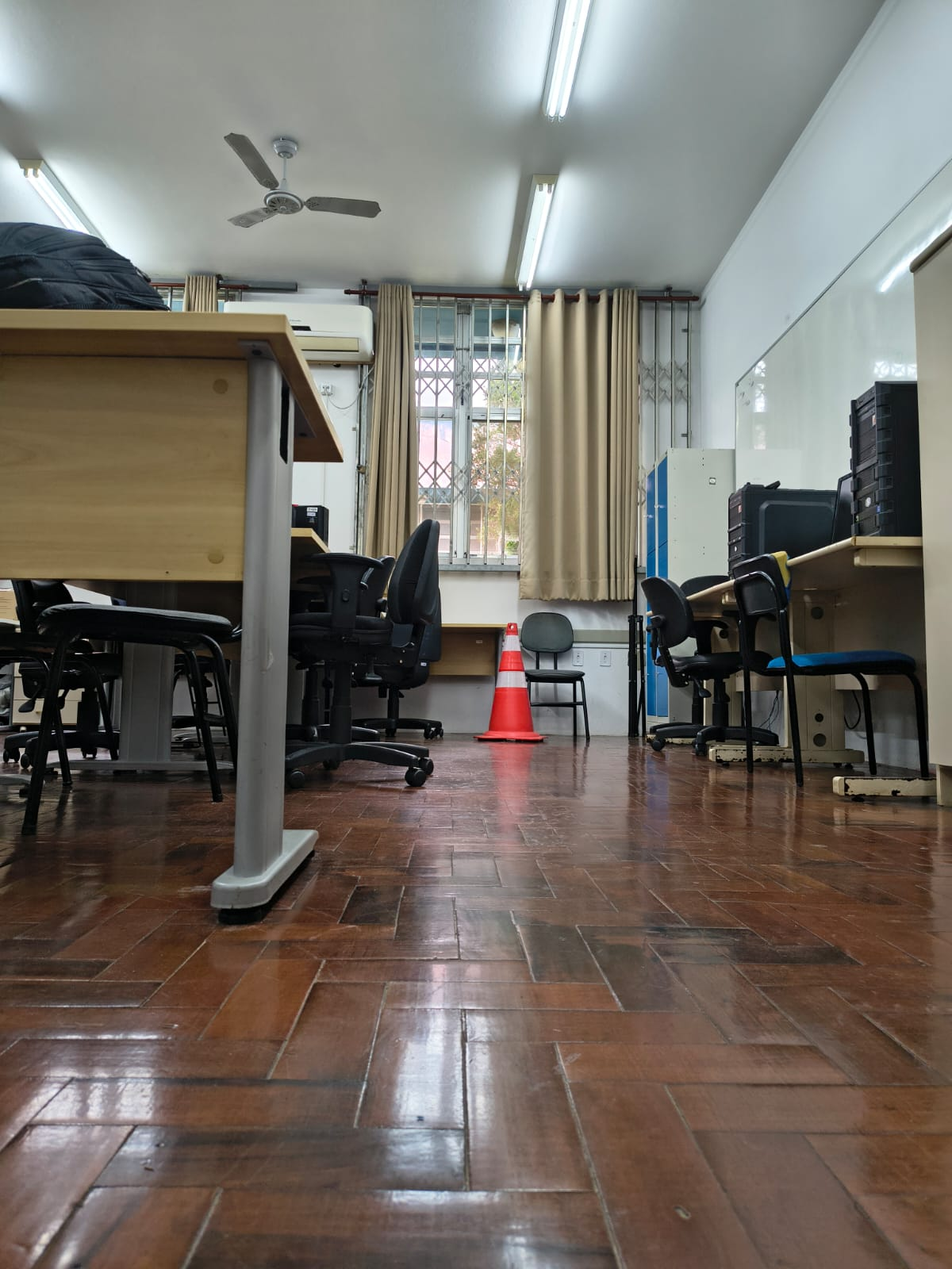cone: (481, 619, 544, 749)
